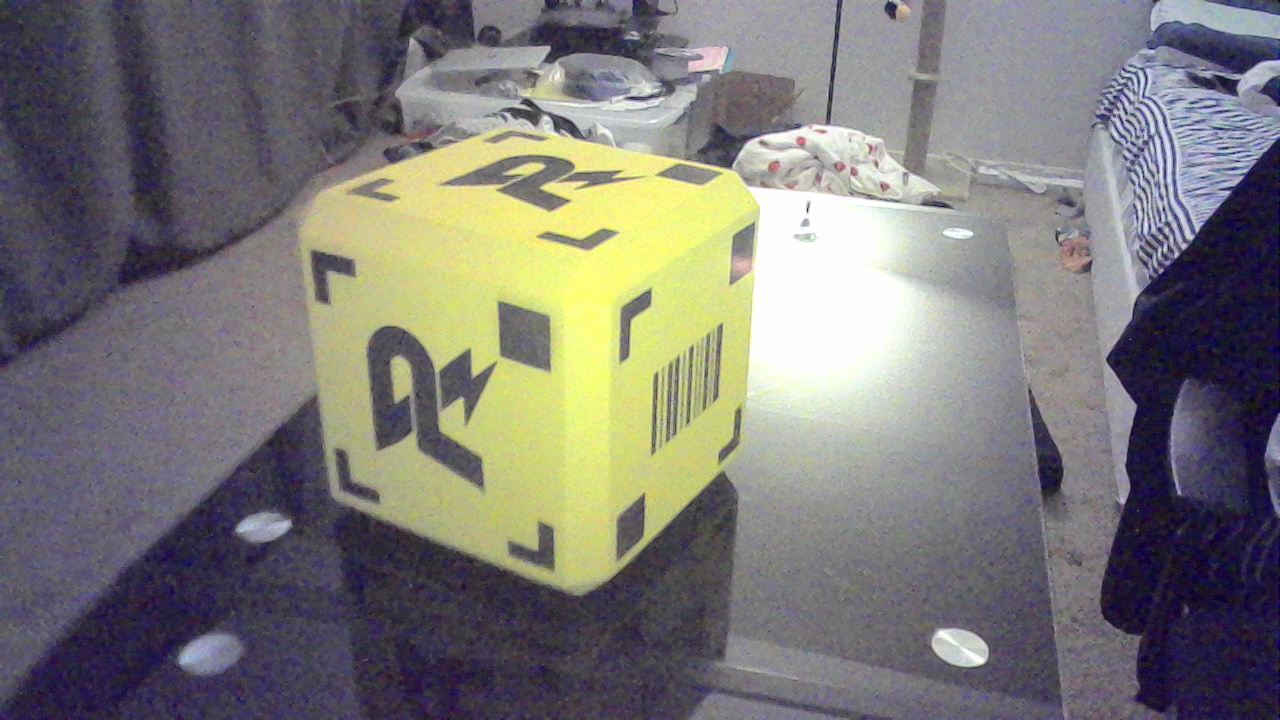Barcode: (648, 348, 746, 434)
R: (357, 322, 514, 499), (459, 154, 644, 216)
